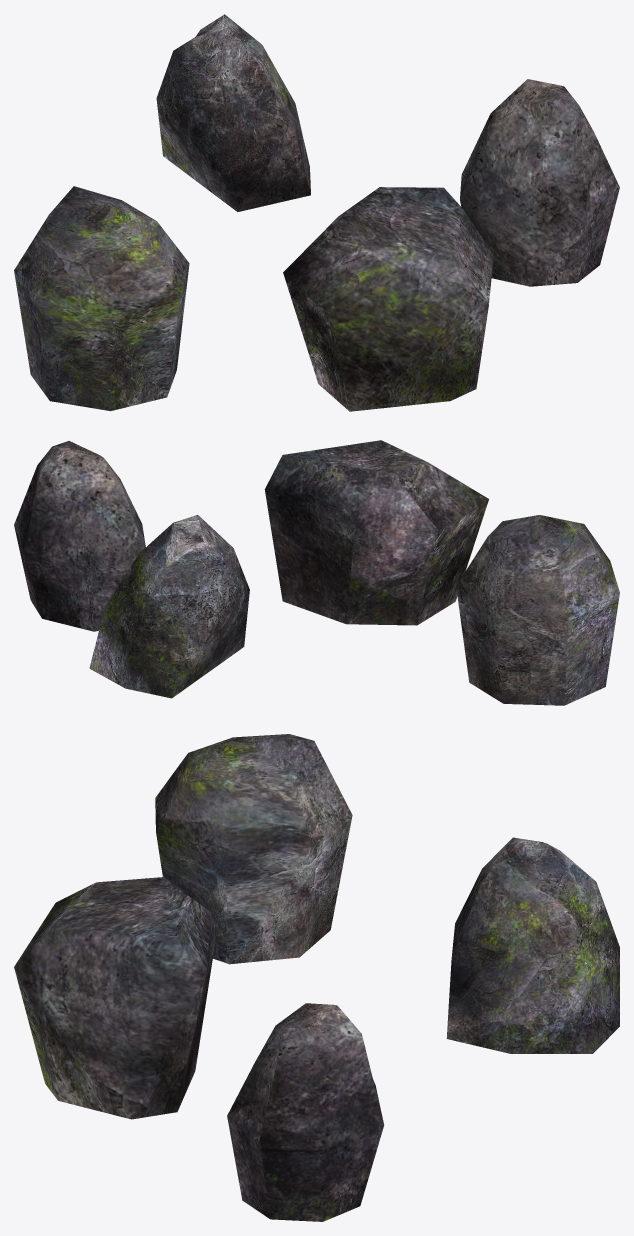
The model's file is cairn_02_05.fbx.
3 renders of one model, top to bottom at view 1: azimuth 30°, elevation 25°; view 2: azimuth 150°, elevation 25°; view 3: azimuth 270°, elevation 25°, orthographic. The views are drawn at different scales.
Visible parts, largest first — view 1: cairn_02_05; view 2: cairn_02_05; view 3: cairn_02_05.
Part boxes in pixels (x1,y1,x2,y2): cairn_02_05: (14, 14, 619, 411); cairn_02_05: (14, 440, 619, 705); cairn_02_05: (14, 734, 619, 1221).
Size of the model in its own units: 20.5 by 7.14 by 16.21.
